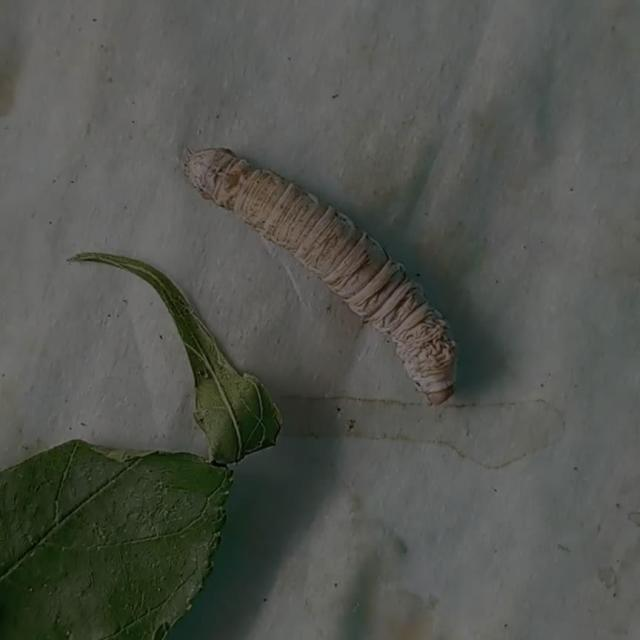Grasserie: (157, 118, 501, 426)
